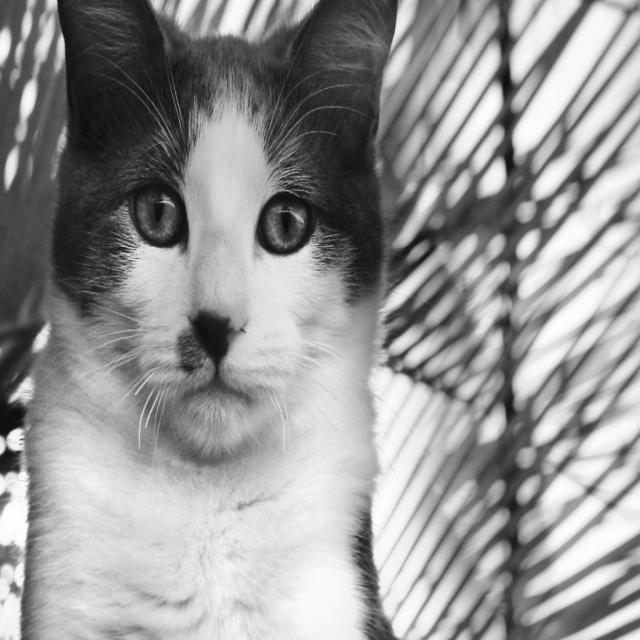Cat: (8, 0, 433, 639)
